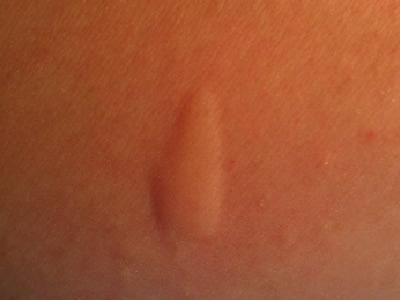Mosquito: (152, 76, 228, 239)
